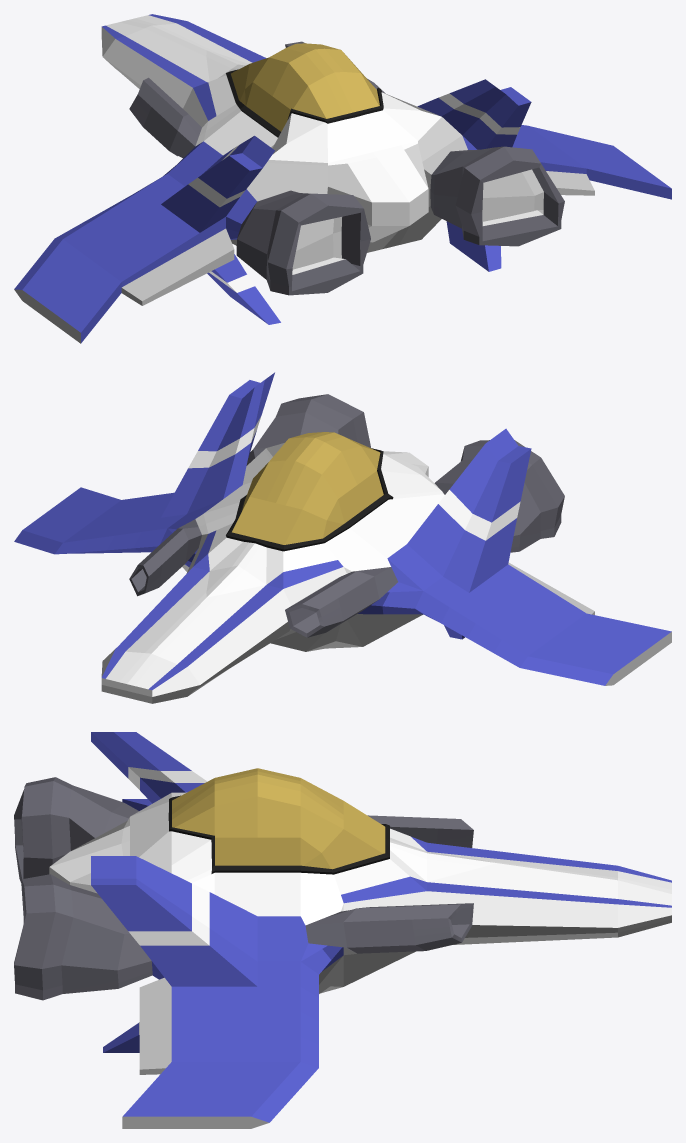
The model's file is BlueShipRev2.fbx.
3 renders of one model, top to bottom at view 1: azimuth 30°, elevation 25°; view 2: azimuth 150°, elevation 25°; view 3: azimuth 270°, elevation 25°, orthographic. The views are drawn at different scales.
Parts seen in each view (by area): view 1: Ship 1; view 2: Ship 1; view 3: Ship 1.
Part boxes in pixels (bbox=[...]): Ship 1: bbox=[14, 14, 671, 343]; Ship 1: bbox=[14, 372, 671, 703]; Ship 1: bbox=[14, 732, 671, 1128].
Size of the model in its own units: 198 by 63.03 by 173.
